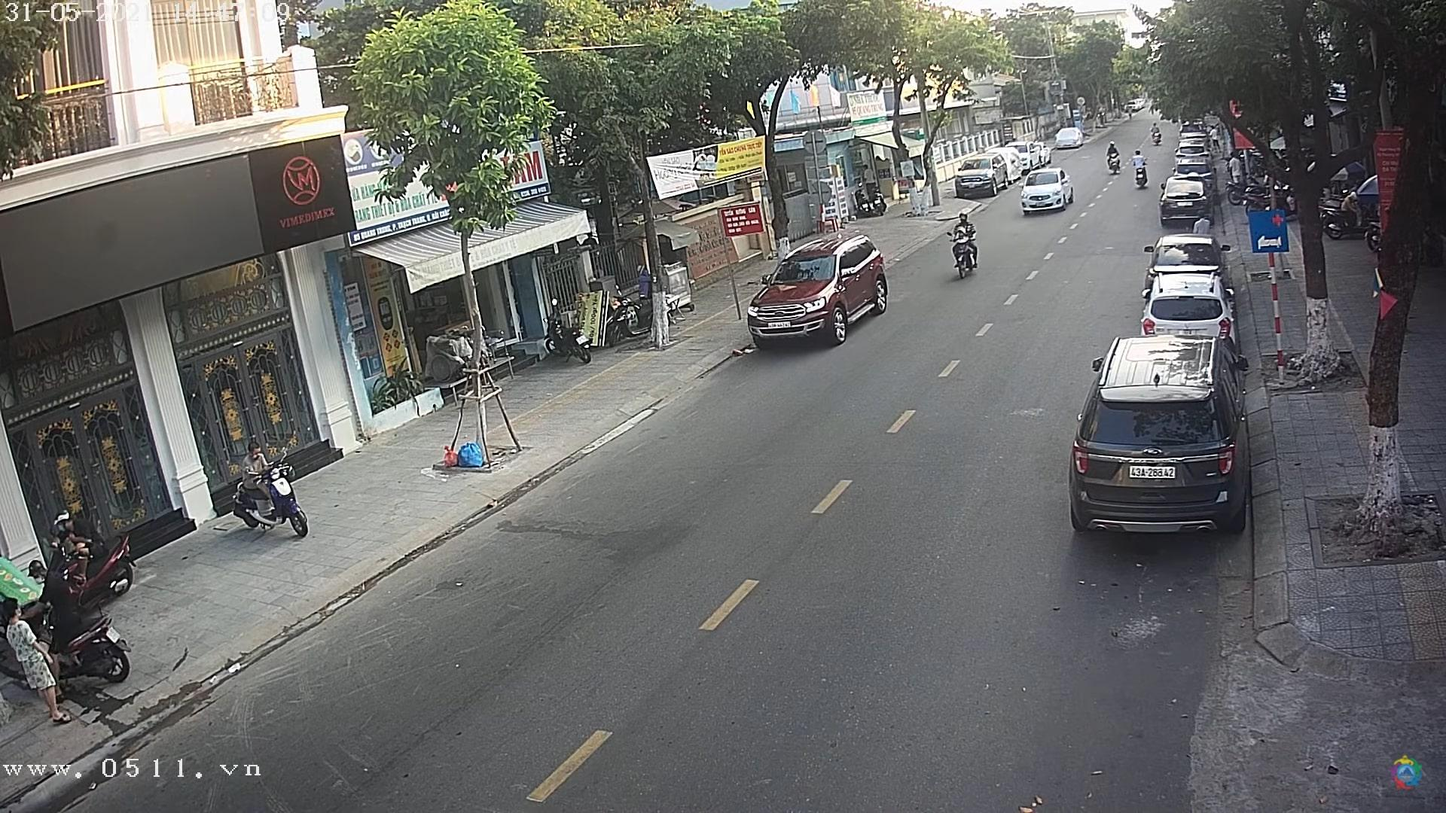car: (1070, 330, 1252, 533), (749, 231, 896, 347), (1140, 288, 1233, 340), (1146, 233, 1230, 288), (950, 151, 1023, 198), (1018, 170, 1074, 218), (1162, 177, 1210, 227), (1056, 126, 1085, 149)
motorbike: (951, 234, 984, 284), (1134, 164, 1149, 188)
